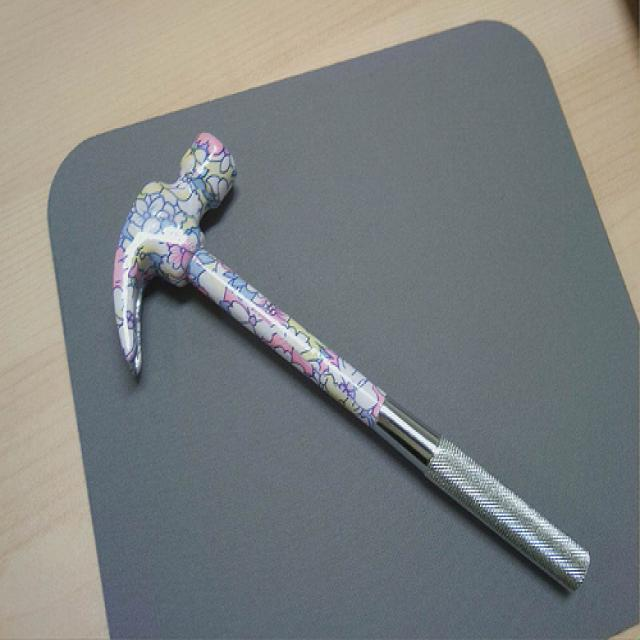hammer: (77, 114, 611, 620)
